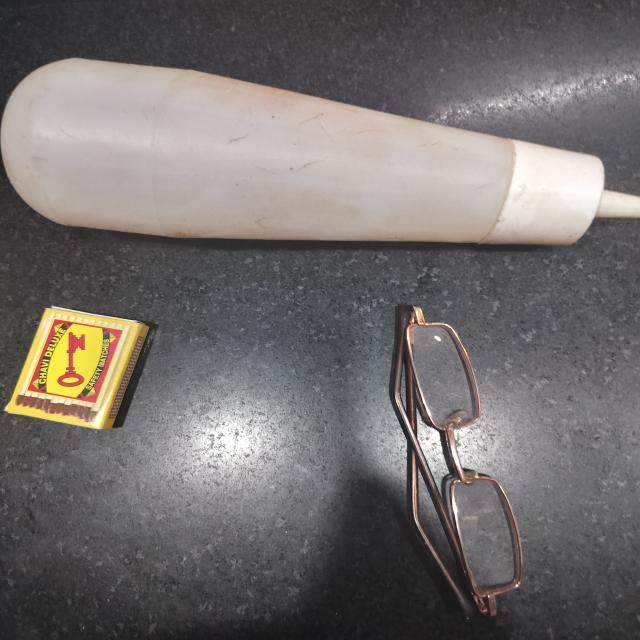dry: (10, 43, 640, 244), (394, 297, 567, 640), (5, 293, 150, 451)
